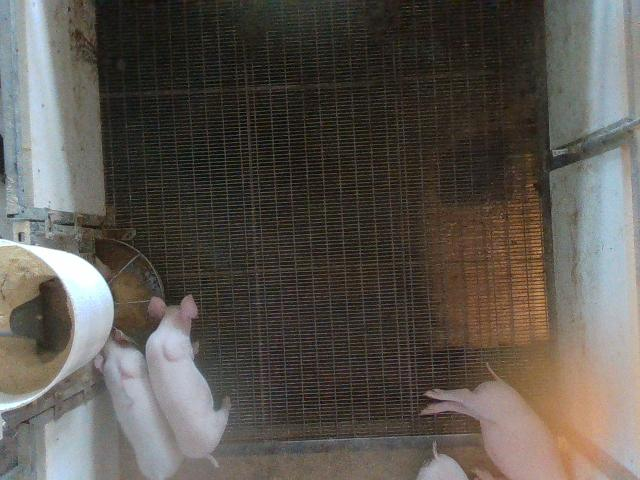pig-5: (95, 331, 182, 479)
